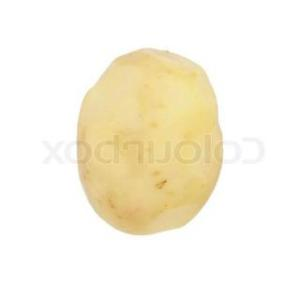potato: (77, 48, 220, 236)
